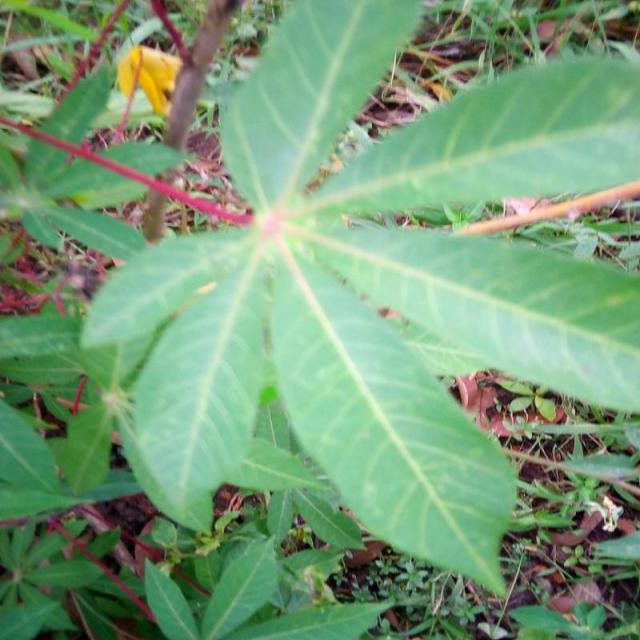cassava leaf: (76, 0, 640, 596)
